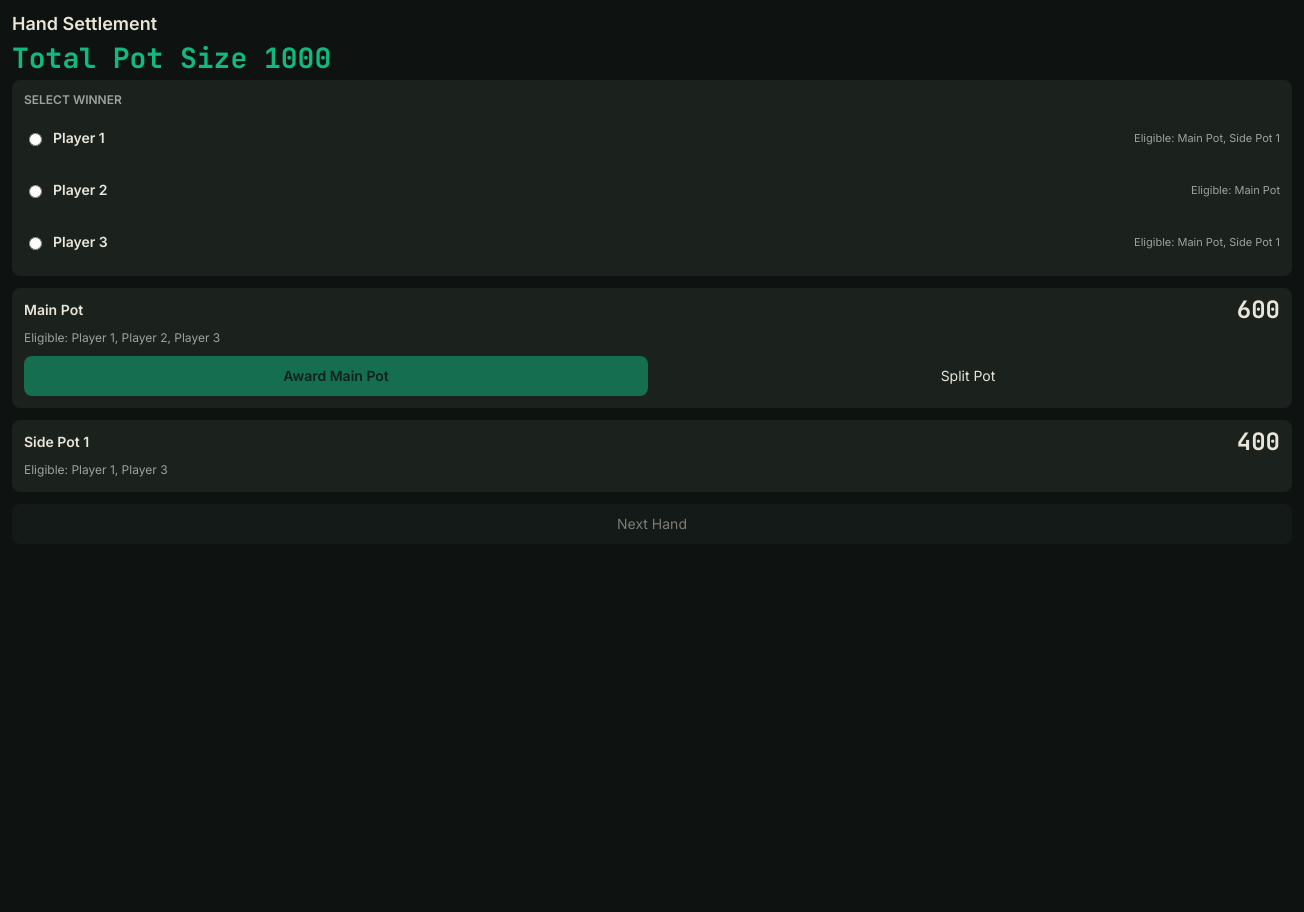
Test case: SettlementScreen › opens split mode with a chop selection — checkboxes, no bare inputs pre-selection
The image size is (1304, 912).
Click the button "Split Pot".
click(968, 376)  # box 656,356 -> 1280,396
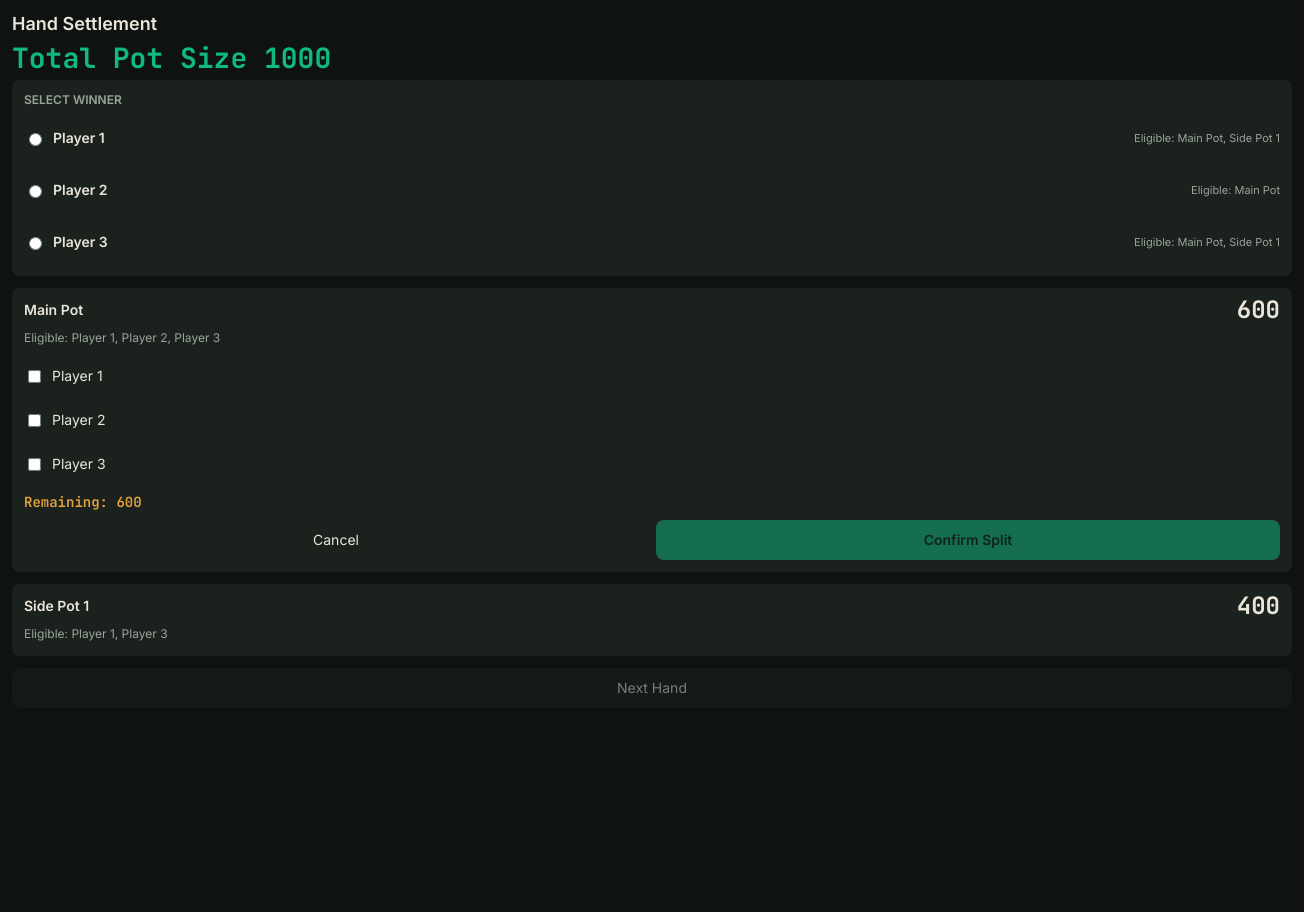
Expected: the number of checkboxes is 3, 28,370 -> 41,382; 28,414 -> 41,426; 28,458 -> 41,470
Expected: the text "Remaining: 600" is shown, 24,493 -> 142,511
